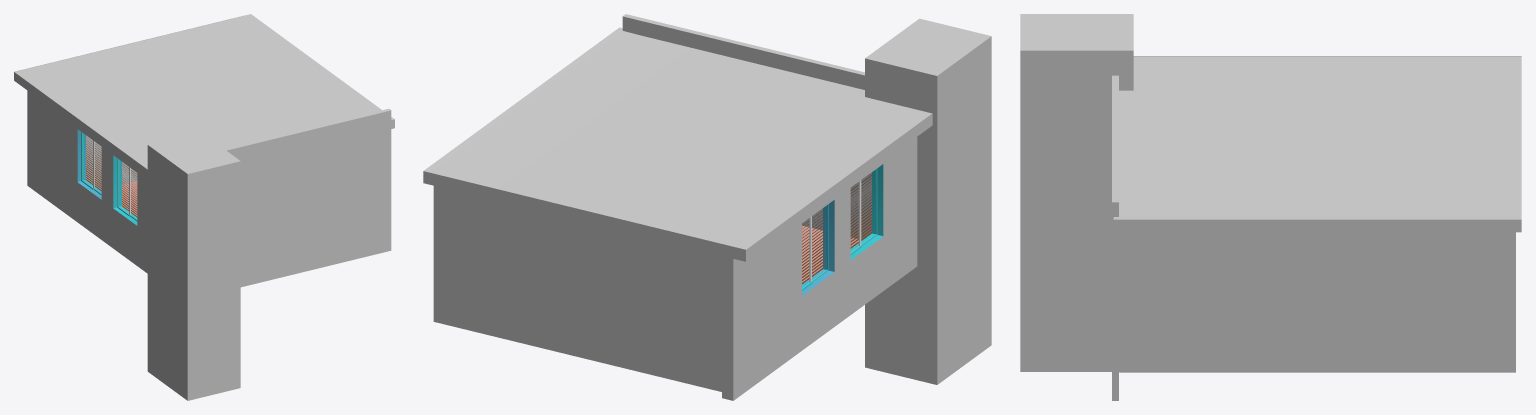
Rendered from museo.glb.
3 renders of one model, left to right at view 1: azimuth 30°, elevation 25°; view 2: azimuth 150°, elevation 25°; view 3: azimuth 270°, elevation 25°, orthographic. The views are drawn at different scales.
Visible parts, largest first — view 1: Decke, Würfel.1, Würfel, Wand_Fenster, Würfel.1_2, Würfel.4_3, Würfel.5_2, Würfel.5_26_1, Wand; view 2: Decke, Wand, Würfel.1, Wand_Fenster, Würfel, Würfel.5_2, Würfel.4_3, Würfel.5_26_1, Würfel.5_21; view 3: Decke, Wand, Würfel.1, Würfel.
Part boxes in pixels (x1,y1,x2,y2): Decke: (14, 14, 394, 177); Würfel.1: (147, 132, 240, 400); Würfel: (224, 108, 391, 287); Wand_Fenster: (27, 90, 147, 273); Würfel.1_2: (86, 135, 137, 189); Würfel.4_3: (77, 129, 101, 199); Würfel.5_2: (113, 155, 137, 225); Würfel.5_26_1: (86, 137, 101, 190); Wand: (101, 181, 137, 215); Decke: (423, 27, 932, 261); Wand: (433, 186, 858, 392); Würfel.1: (865, 18, 991, 384); Wand_Fenster: (722, 137, 917, 400); Würfel: (622, 14, 864, 238); Würfel.5_2: (850, 164, 883, 259); Würfel.4_3: (802, 200, 834, 295); Würfel.5_26_1: (802, 211, 822, 284); Würfel.5_21: (850, 173, 871, 248); Decke: (1113, 56, 1521, 232); Wand: (1119, 232, 1515, 372); Würfel.1: (1020, 14, 1133, 371); Würfel: (1112, 75, 1118, 400).
Size of the model in its own units: 0.0843 by 0.0761 by 0.1076.
